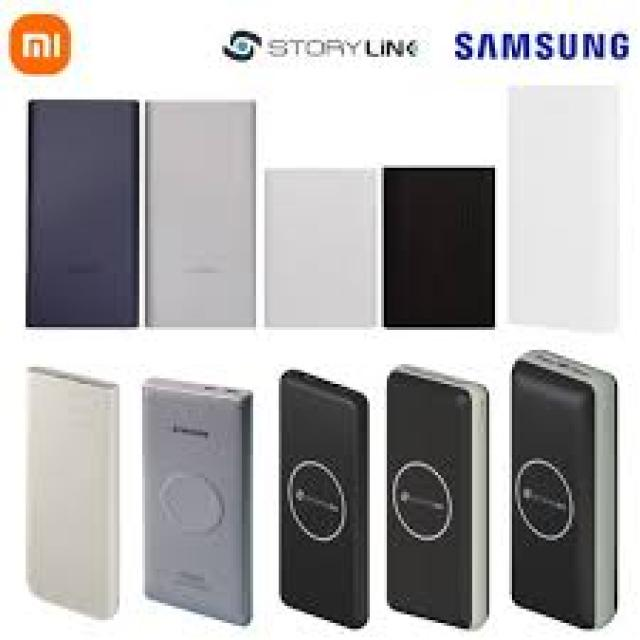portable-charger: (502, 344, 618, 635), (380, 362, 496, 630), (144, 374, 259, 630), (507, 87, 623, 331), (25, 102, 141, 328), (26, 366, 124, 622), (278, 367, 374, 627), (146, 100, 258, 322), (377, 165, 499, 326), (265, 166, 383, 326)
